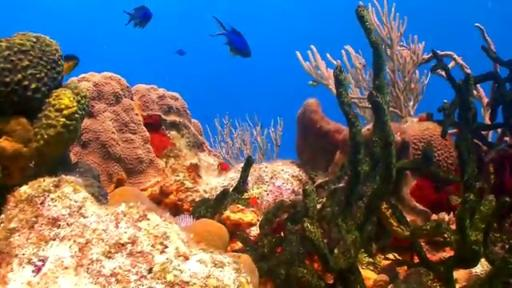Fish: (211, 16, 251, 58), (124, 5, 152, 28), (63, 55, 79, 75), (308, 80, 318, 87), (176, 49, 186, 55)
